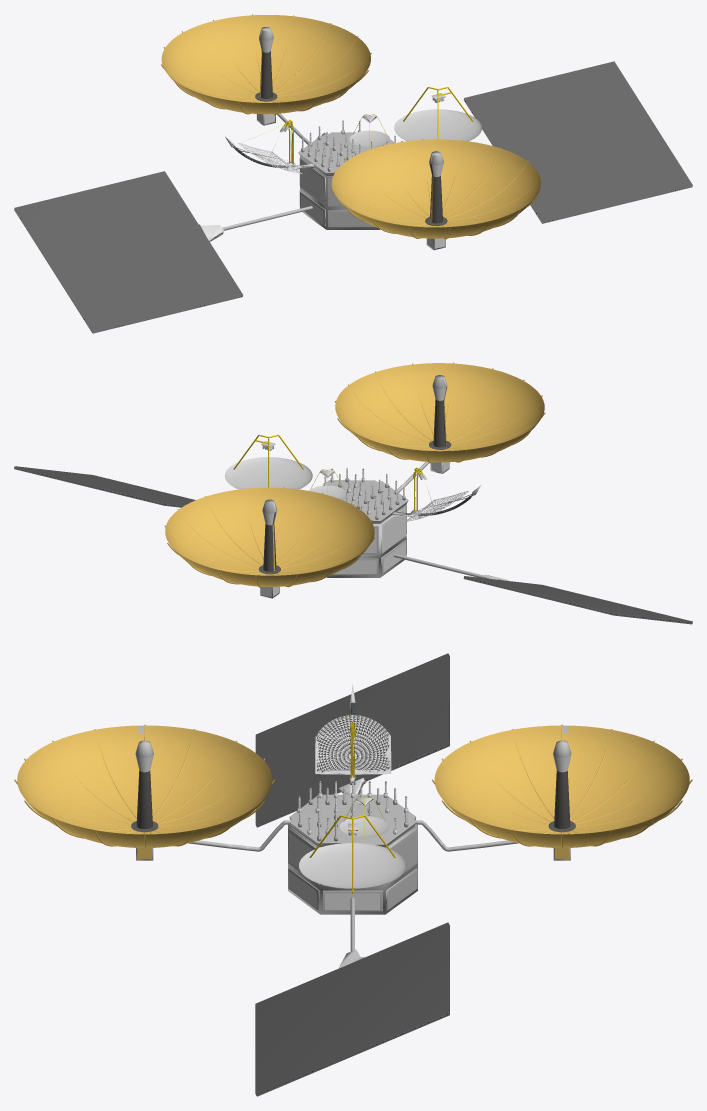
Rendered from tracking-and-data-relay-satellites-trds-e.glb.
3 renders of one model, top to bottom at view 1: azimuth 30°, elevation 25°; view 2: azimuth 150°, elevation 25°; view 3: azimuth 270°, elevation 25°, orthographic. The views are drawn at different scales.
Parts seen in each view (by area): view 1: Fake; view 2: Fake; view 3: Fake.
Part boxes in pixels (x1,y1,x2,y2): Fake: (14,14,692,333); Fake: (14,362,692,624); Fake: (14,653,692,1096).
Size of the model in its own units: 94.44 by 21.24 by 75.45.
1 material, 1 textured.
